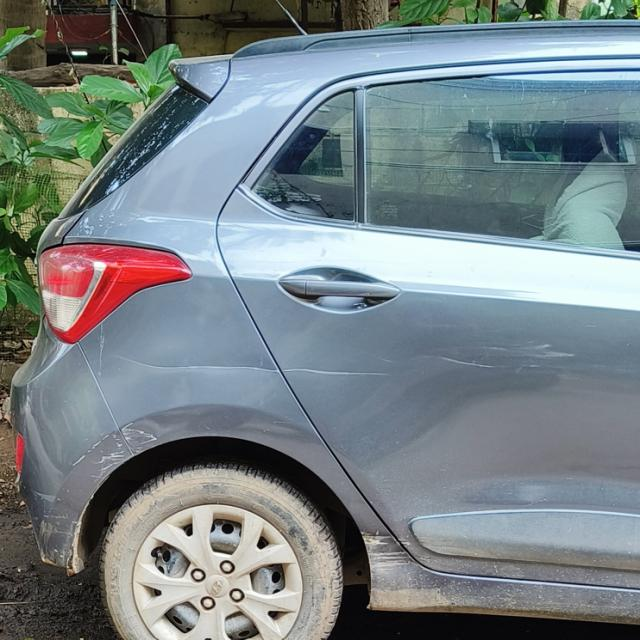scratch: (102, 343, 399, 417), (423, 330, 584, 395), (51, 422, 162, 478), (577, 318, 607, 339)
